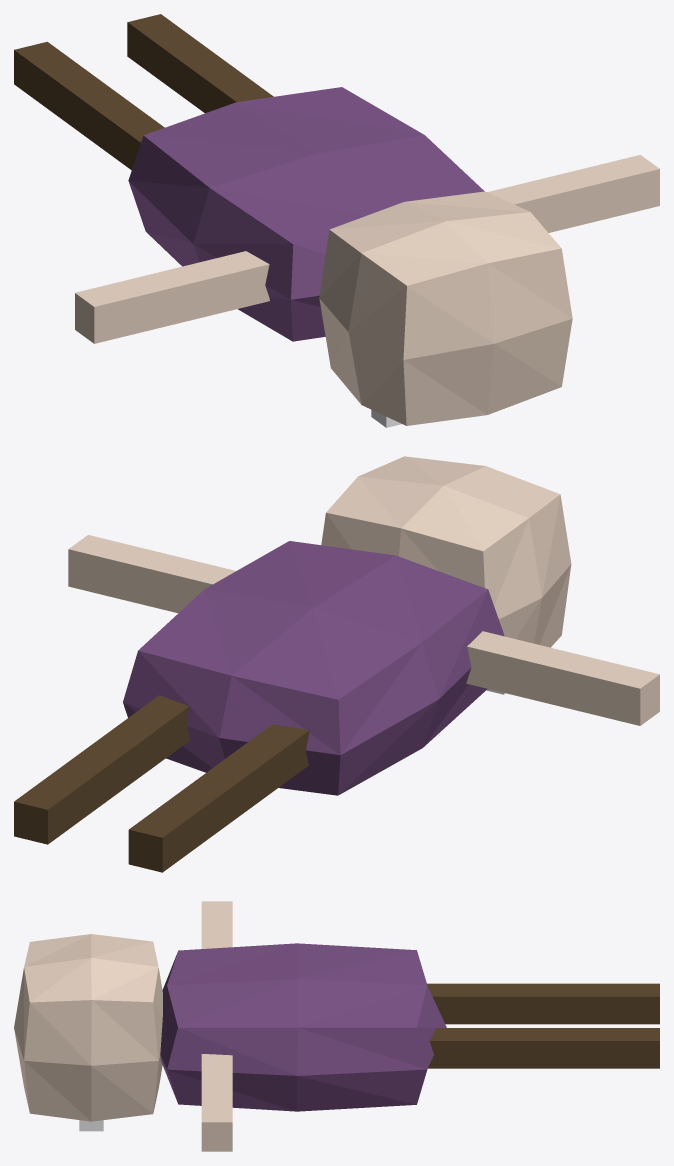
The model's file is person.obj.
The picture shows the model from 3 angles, top to bottom: view 1: azimuth 30°, elevation 25°; view 2: azimuth 150°, elevation 25°; view 3: azimuth 270°, elevation 25°; orthographic projection. The views are drawn at different scales.
Visible parts, largest first — view 1: Object.6, Object.7, Object.3, Object.1, Object.4, Object.2; view 2: Object.7, Object.6, Object.1, Object.2, Object.3, Object.4; view 3: Object.7, Object.6, Object.1, Object.2, Object.4, Object.3.
Part boxes in pixels (x1,y1,x2,y2): Object.6: [319, 191, 572, 425]; Object.7: [128, 87, 484, 341]; Object.3: [75, 251, 269, 343]; Object.1: [14, 41, 164, 170]; Object.4: [487, 155, 659, 232]; Object.2: [127, 14, 273, 113]; Object.7: [123, 541, 504, 795]; Object.6: [321, 456, 571, 647]; Object.1: [128, 724, 309, 872]; Object.2: [14, 695, 190, 844]; Object.3: [466, 631, 659, 725]; Object.4: [68, 535, 235, 613]; Object.7: [160, 943, 446, 1111]; Object.6: [14, 934, 162, 1121]; Object.1: [427, 983, 659, 1024]; Object.2: [428, 1028, 659, 1068]; Object.4: [201, 1054, 232, 1151]; Object.3: [201, 901, 232, 948].
Bounding box in the file's own units: 89.77 × 28.03 × 111.
